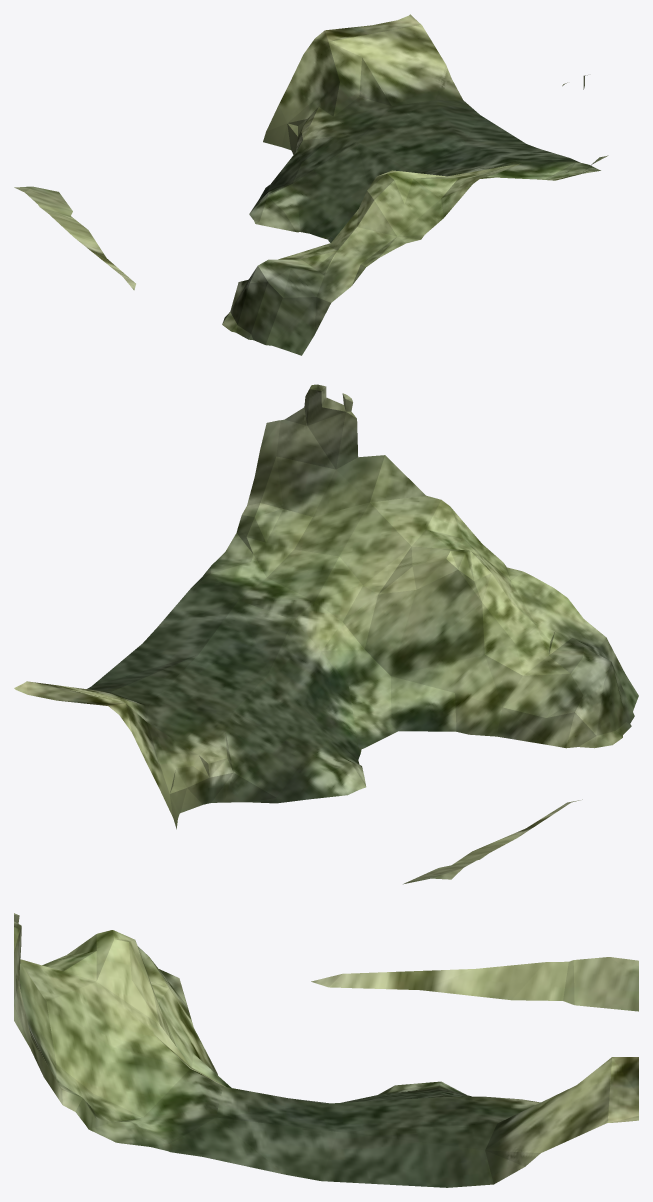
3 views of the same model, one above another, from view 1: azimuth 30°, elevation 25°; view 2: azimuth 150°, elevation 25°; view 3: azimuth 270°, elevation 25° (orthographic). The views are drawn at different scales.
Bounding box in the file's own units: 2.95 × 1.5 × 2.95.
2 materials, 2 textured.
